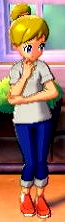woman_egg: (6, 3, 60, 220)
